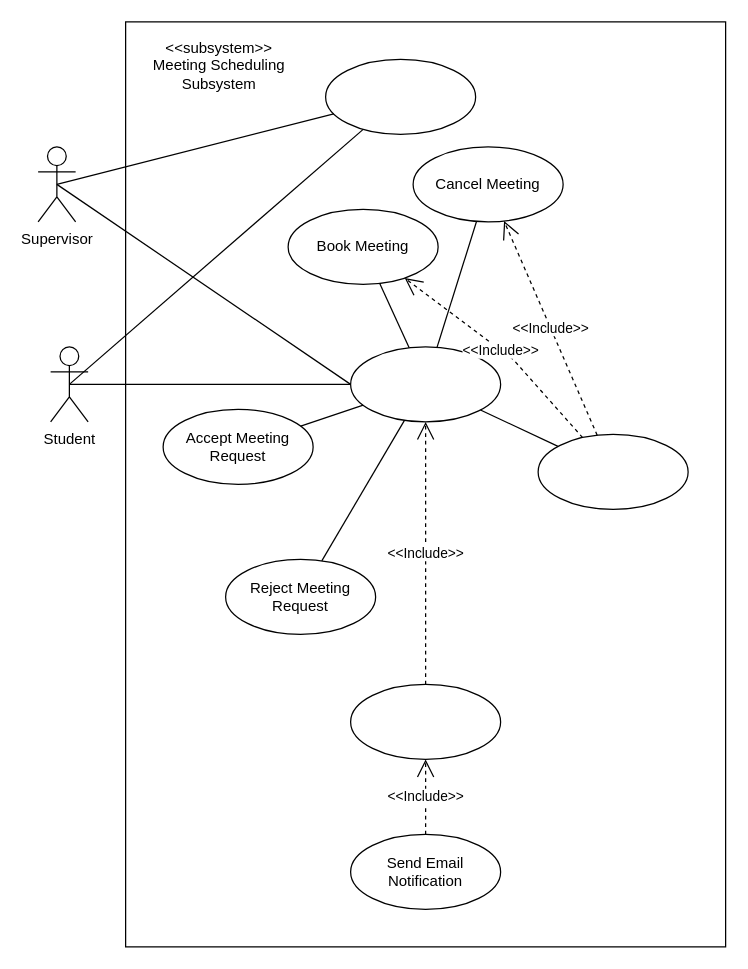
The diagram is 748 pixels wide and 969 high, and some of its shapes have lost their labels. Each missing label, with the box of its shape:
Create Reminder: (349, 683, 501, 759)
Manage Meeting Request: (349, 346, 501, 422)
Postpone Meeting Request: (537, 433, 688, 509)
View Booked & Free Slots: (324, 58, 476, 134)
